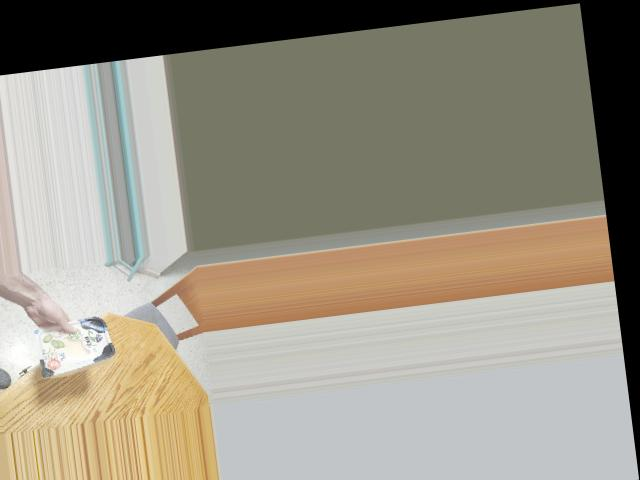cheese: (42, 305, 111, 375)
